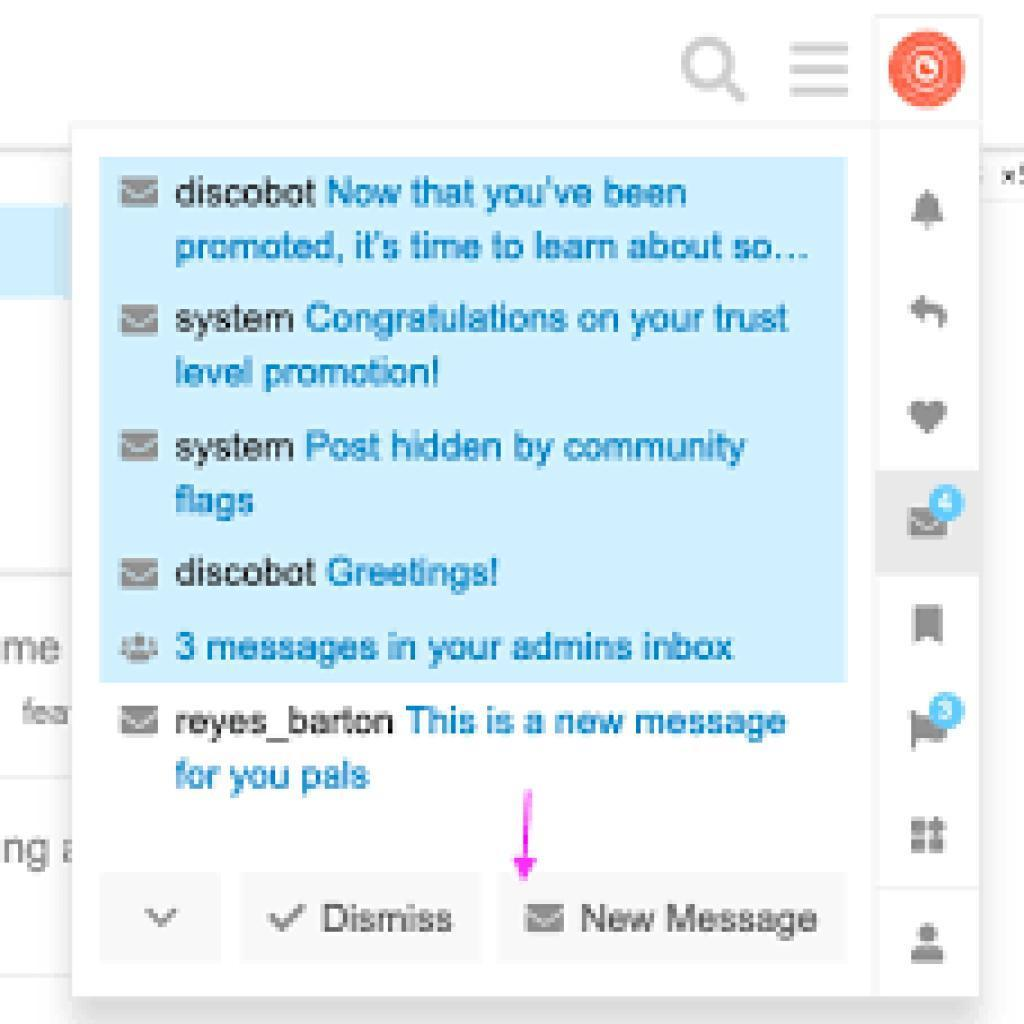button: (500, 875, 842, 973), (241, 872, 480, 962)
icon: (887, 33, 970, 112), (674, 32, 754, 113), (784, 37, 860, 109), (896, 480, 968, 553), (902, 688, 968, 763), (904, 288, 958, 341), (114, 295, 167, 347), (904, 185, 949, 246), (115, 551, 169, 601), (904, 810, 952, 863), (905, 920, 952, 973), (113, 171, 166, 217), (141, 890, 186, 943), (908, 597, 949, 654), (117, 701, 166, 745), (902, 398, 953, 439), (117, 630, 166, 669), (122, 428, 164, 469)
